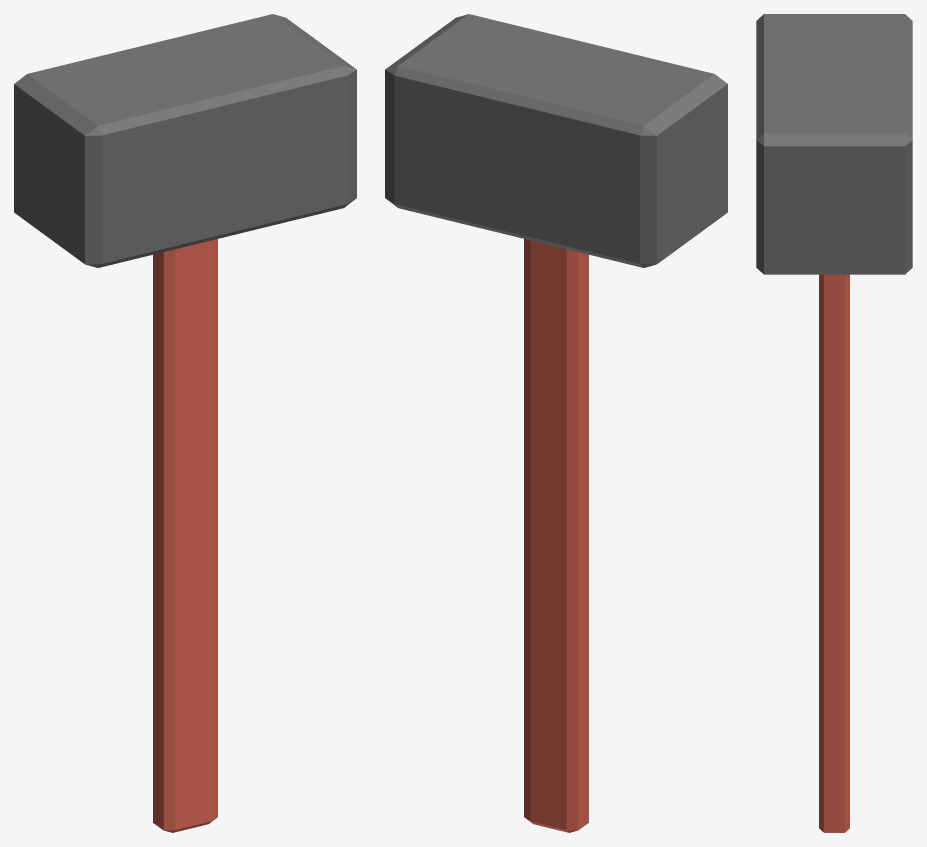
File: marteau.fbx
The picture shows the model from 3 angles, left to right: view 1: azimuth 30°, elevation 25°; view 2: azimuth 150°, elevation 25°; view 3: azimuth 270°, elevation 25°; orthographic projection.
Visible parts, largest first — view 1: Cube; view 2: Cube; view 3: Cube.
Part boxes in pixels (box(x1,y1,x2,y2)): Cube: box(14, 14, 356, 832); Cube: box(385, 14, 727, 832); Cube: box(756, 14, 912, 832).
Size of the model in its own units: 24 by 63.68 by 12.
